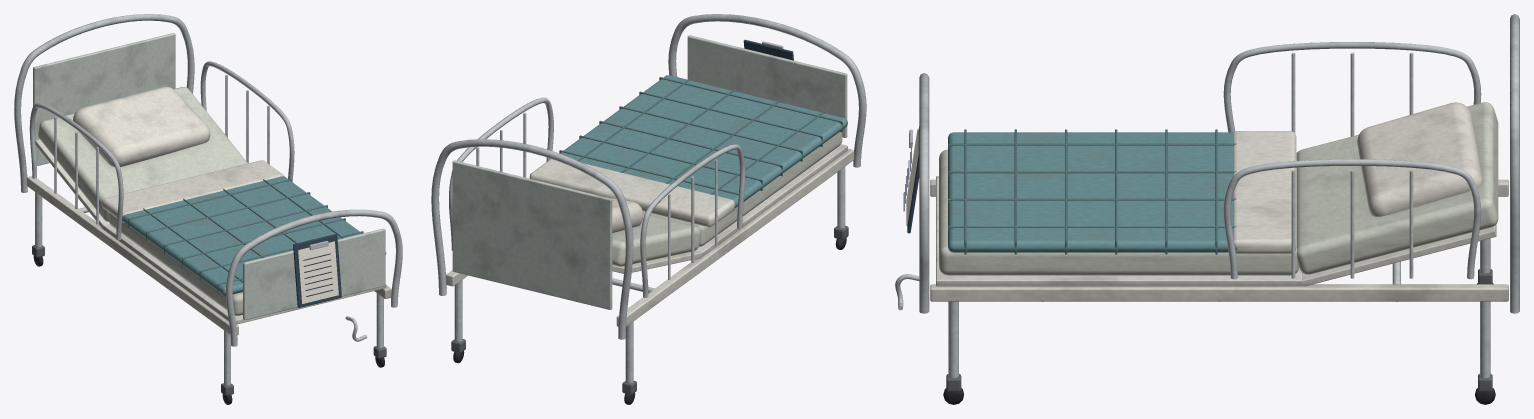
File: szp_lozko.glb
3 views of the same model, side by side, from view 1: azimuth 30°, elevation 25°; view 2: azimuth 150°, elevation 25°; view 3: azimuth 270°, elevation 25° (orthographic). The views are drawn at different scales.
Visible parts, largest first — view 1: Posciel, Rama, Karta; view 2: Rama, Posciel, Karta; view 3: Posciel, Rama, Karta.
Boxes of the visible parts, box(x1,y1,x2,y2) form: Posciel: box(38, 86, 386, 315); Rama: box(14, 14, 402, 404); Karta: box(293, 234, 341, 307); Rama: box(431, 14, 866, 404); Posciel: box(529, 75, 847, 266); Karta: box(743, 39, 793, 60); Posciel: box(939, 102, 1498, 275); Rama: box(895, 14, 1519, 404); Karta: box(903, 126, 919, 233).
Bounding box in the file's own units: 0.9891 × 1.16 × 2.12.
6 materials, 2 textured.
